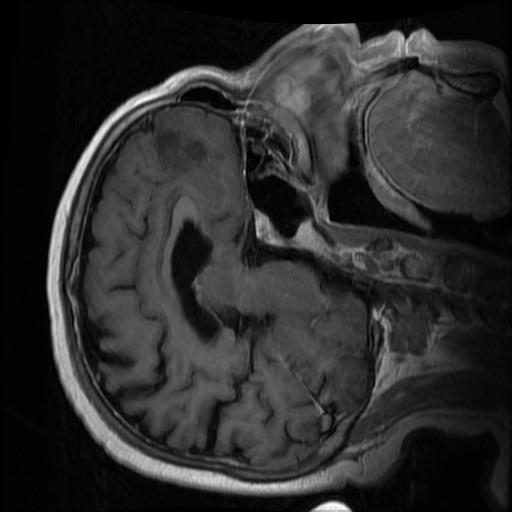glioma: (152, 128, 207, 180)
